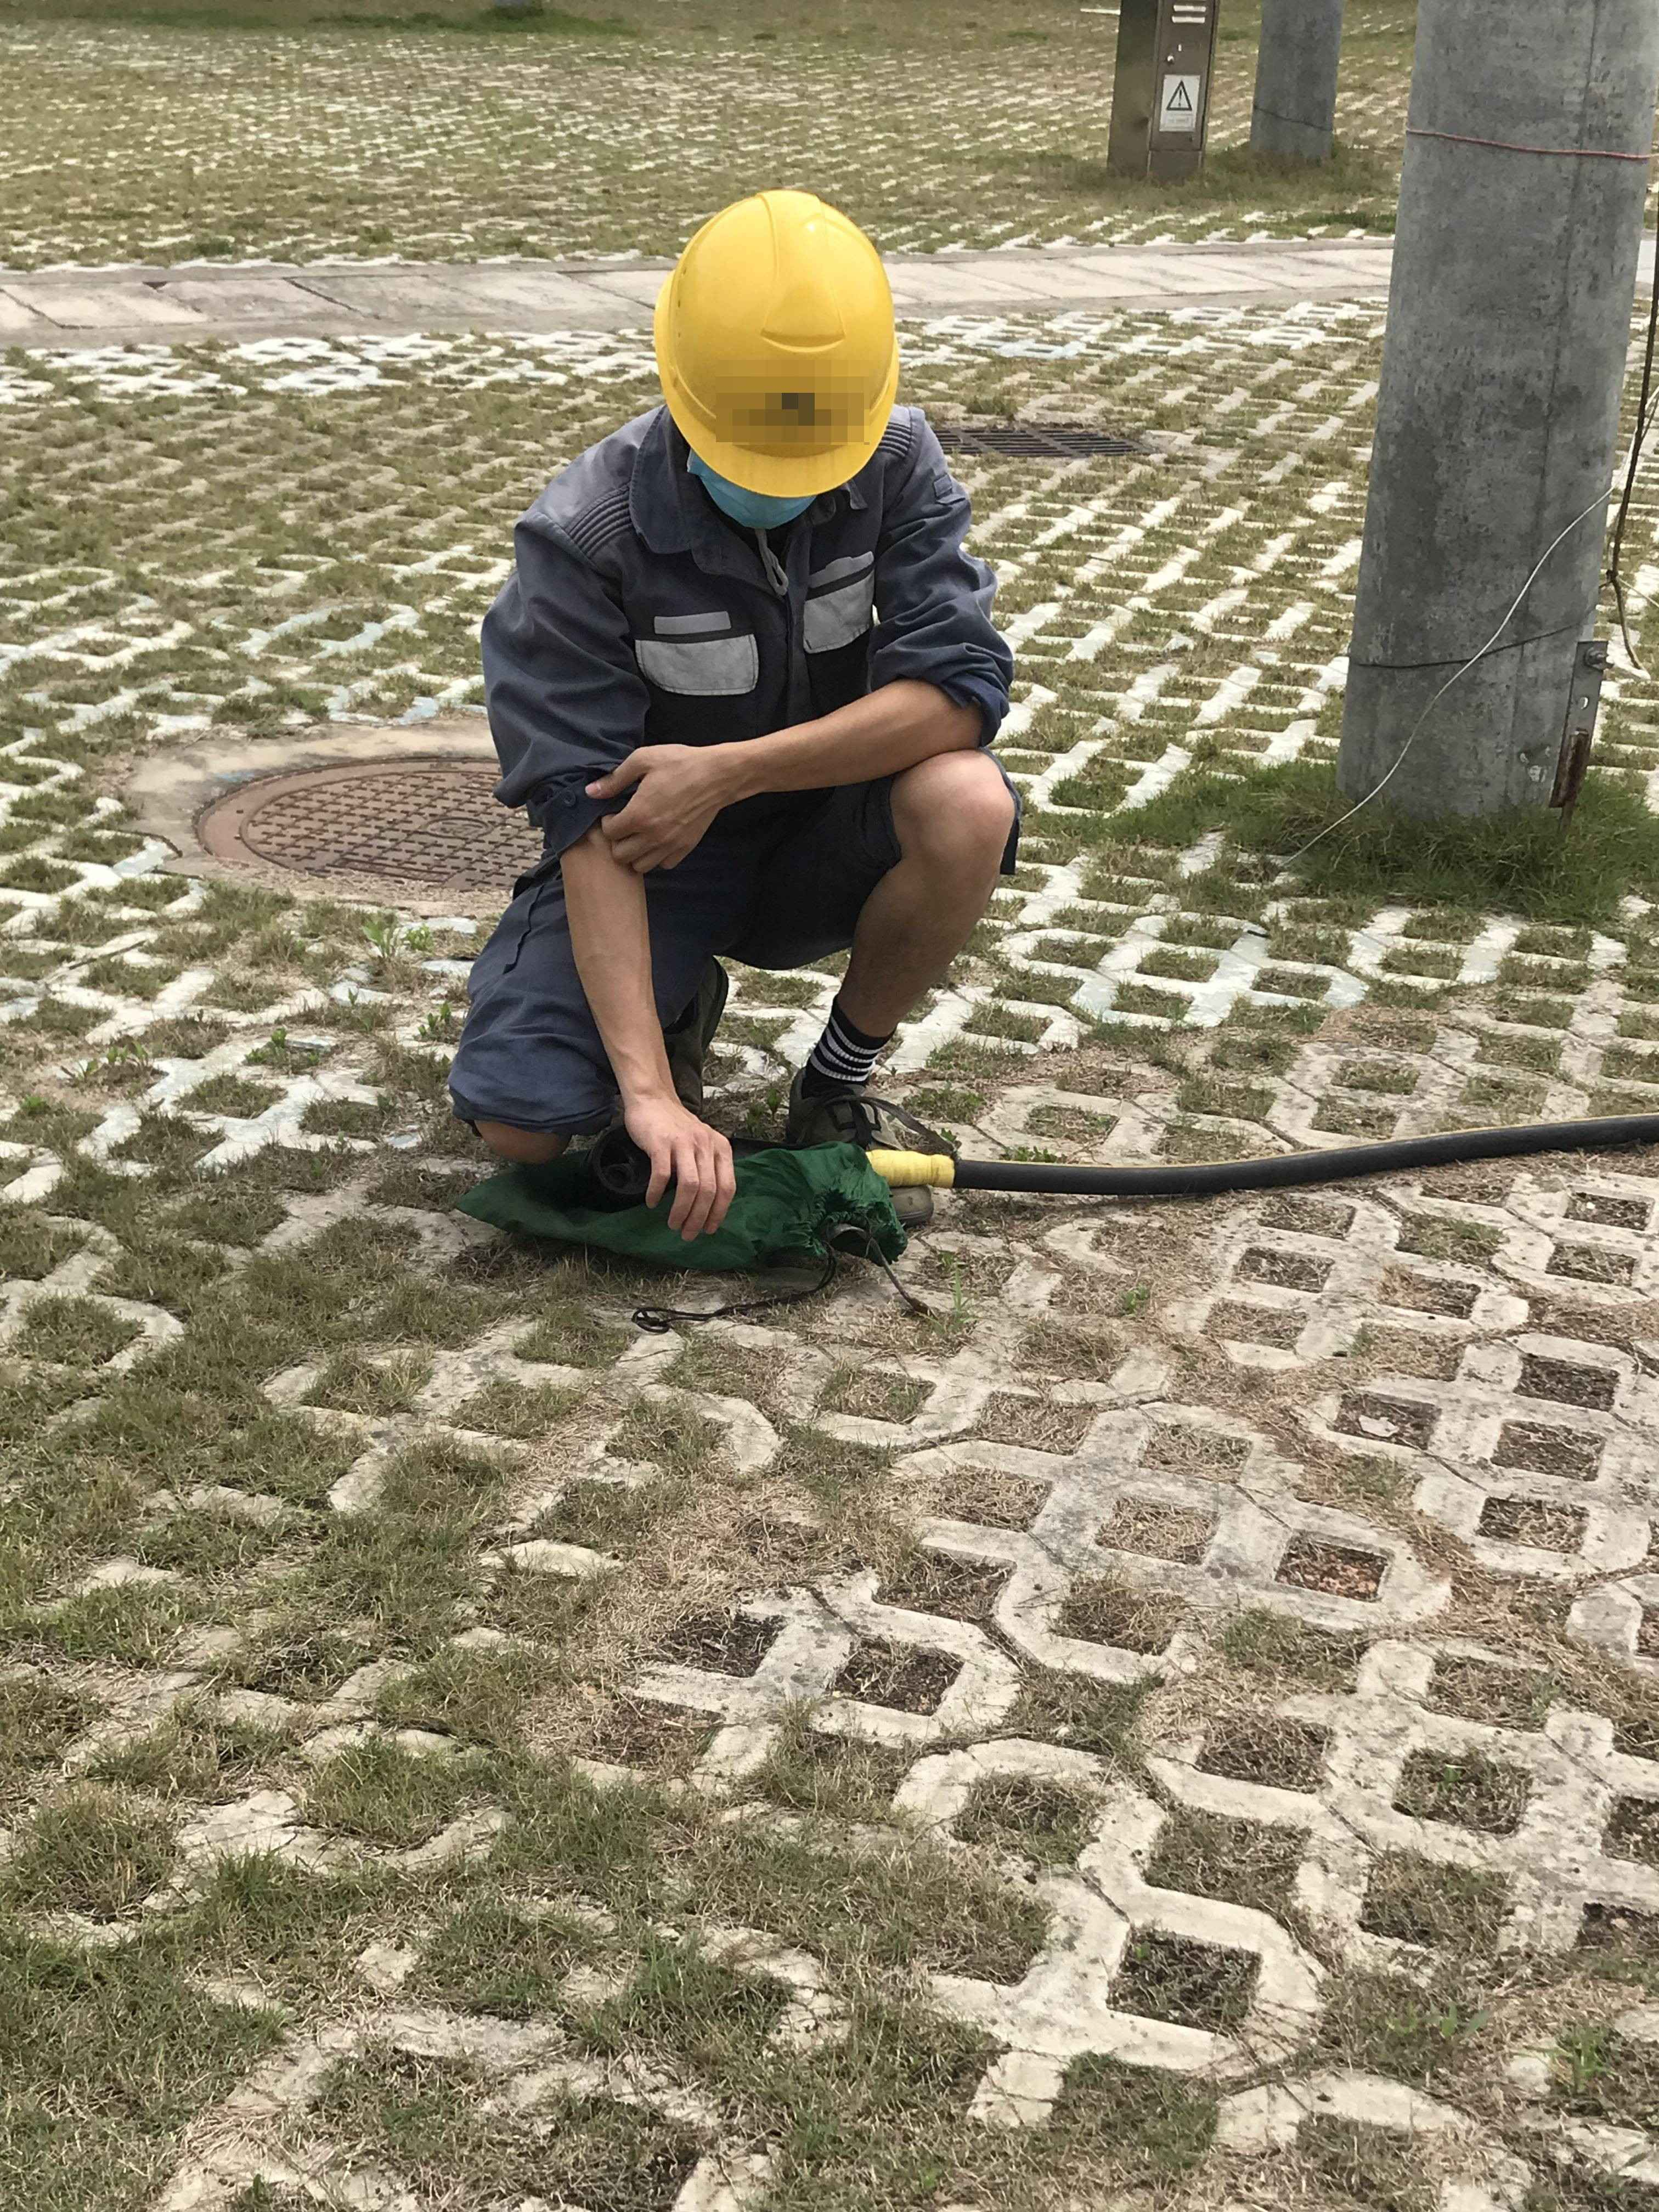upsuit: (477, 401, 1019, 824)
wrongbottom: (830, 752, 1021, 1050)
wrongtop: (580, 669, 1004, 874), (552, 855, 739, 1249)
